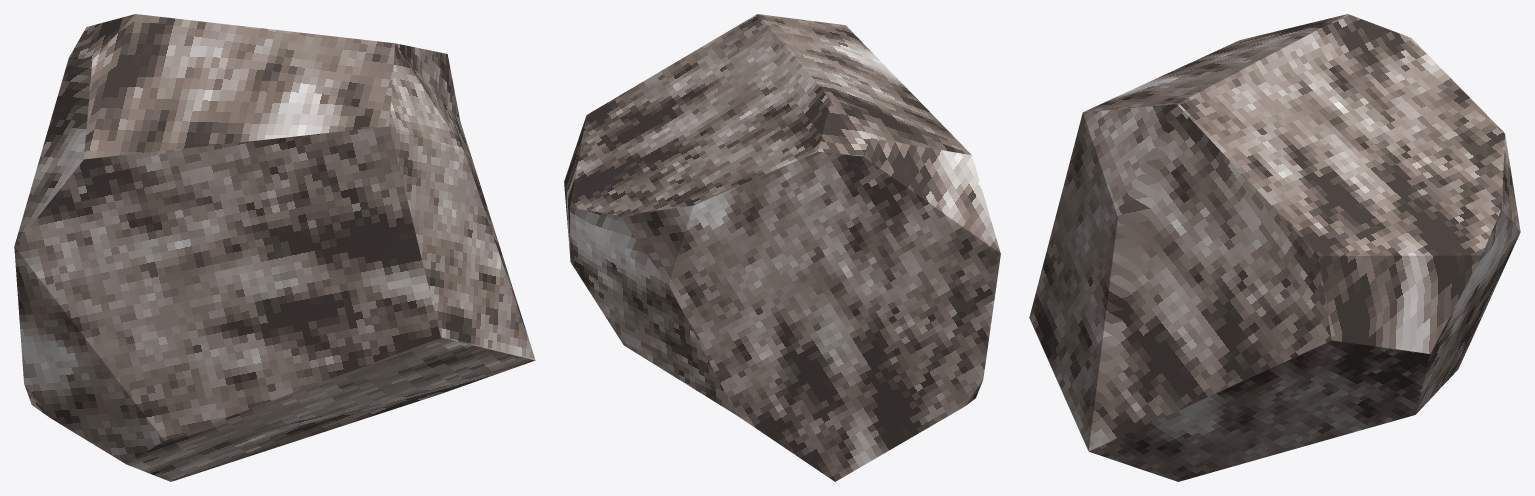
Rendered from rock_3.fbx.
The picture shows the model from 3 angles, left to right: view 1: azimuth 30°, elevation 25°; view 2: azimuth 150°, elevation 25°; view 3: azimuth 270°, elevation 25°; orthographic projection. The views are drawn at different scales.
Visible parts, largest first — view 1: rock_3_LOD0; view 2: rock_3_LOD0; view 3: rock_3_LOD0.
Part boxes in pixels (<box>): rock_3_LOD0: <box>14,14,535,481</box>; rock_3_LOD0: <box>564,14,1000,481</box>; rock_3_LOD0: <box>1029,14,1520,481</box>.
Size of what is drawn, in the model's own units: 228 by 199 by 208.
